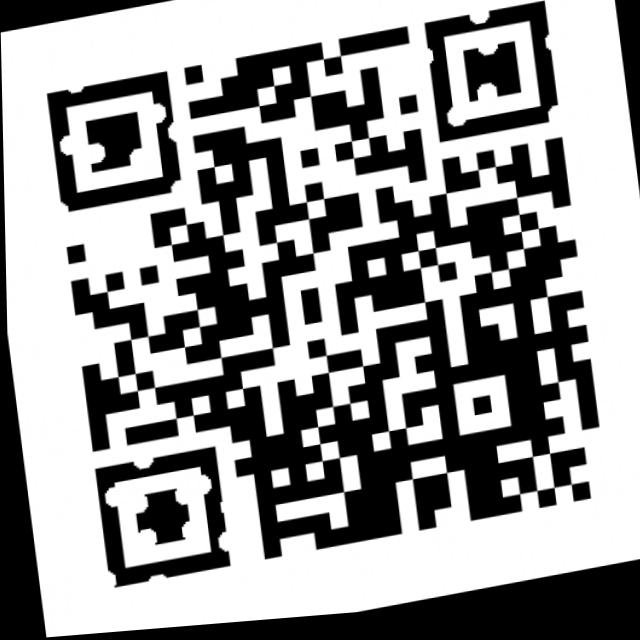QR_CODE: (22, 0, 633, 618)
